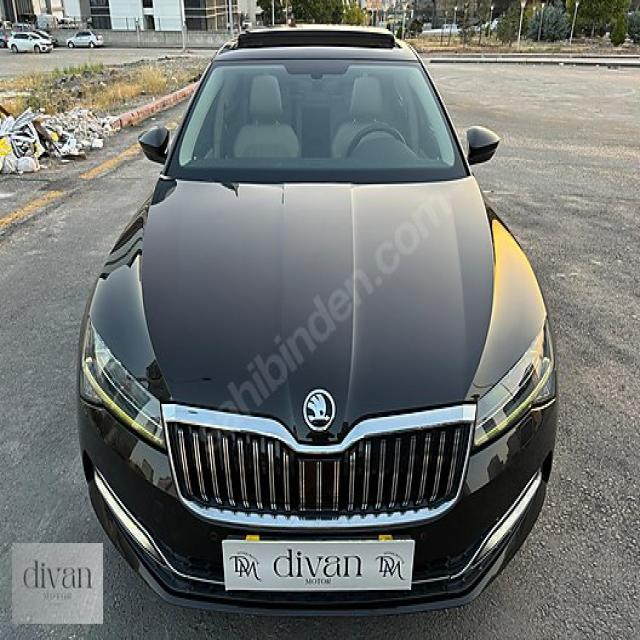skoda: (304, 388, 335, 429)
